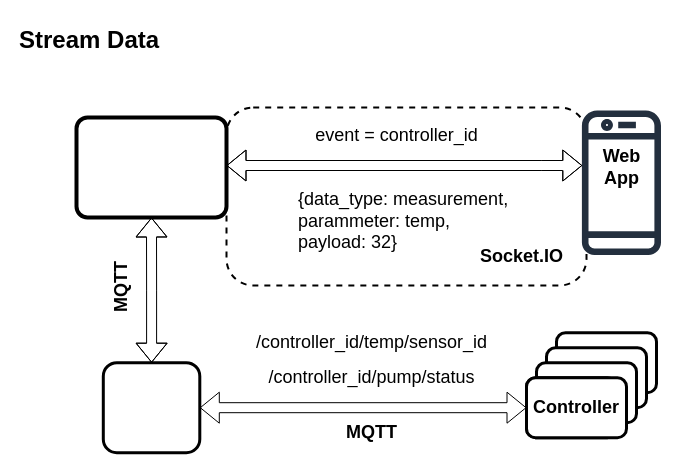
Some shapes in this 678 by 472 pixel diagram are drawn without their labels. Here are the shapes that lost their labels. From the top down, the centre of each, then its label:
At (151,167): "Web Server".
At (151,407): "MQTT Broker".
